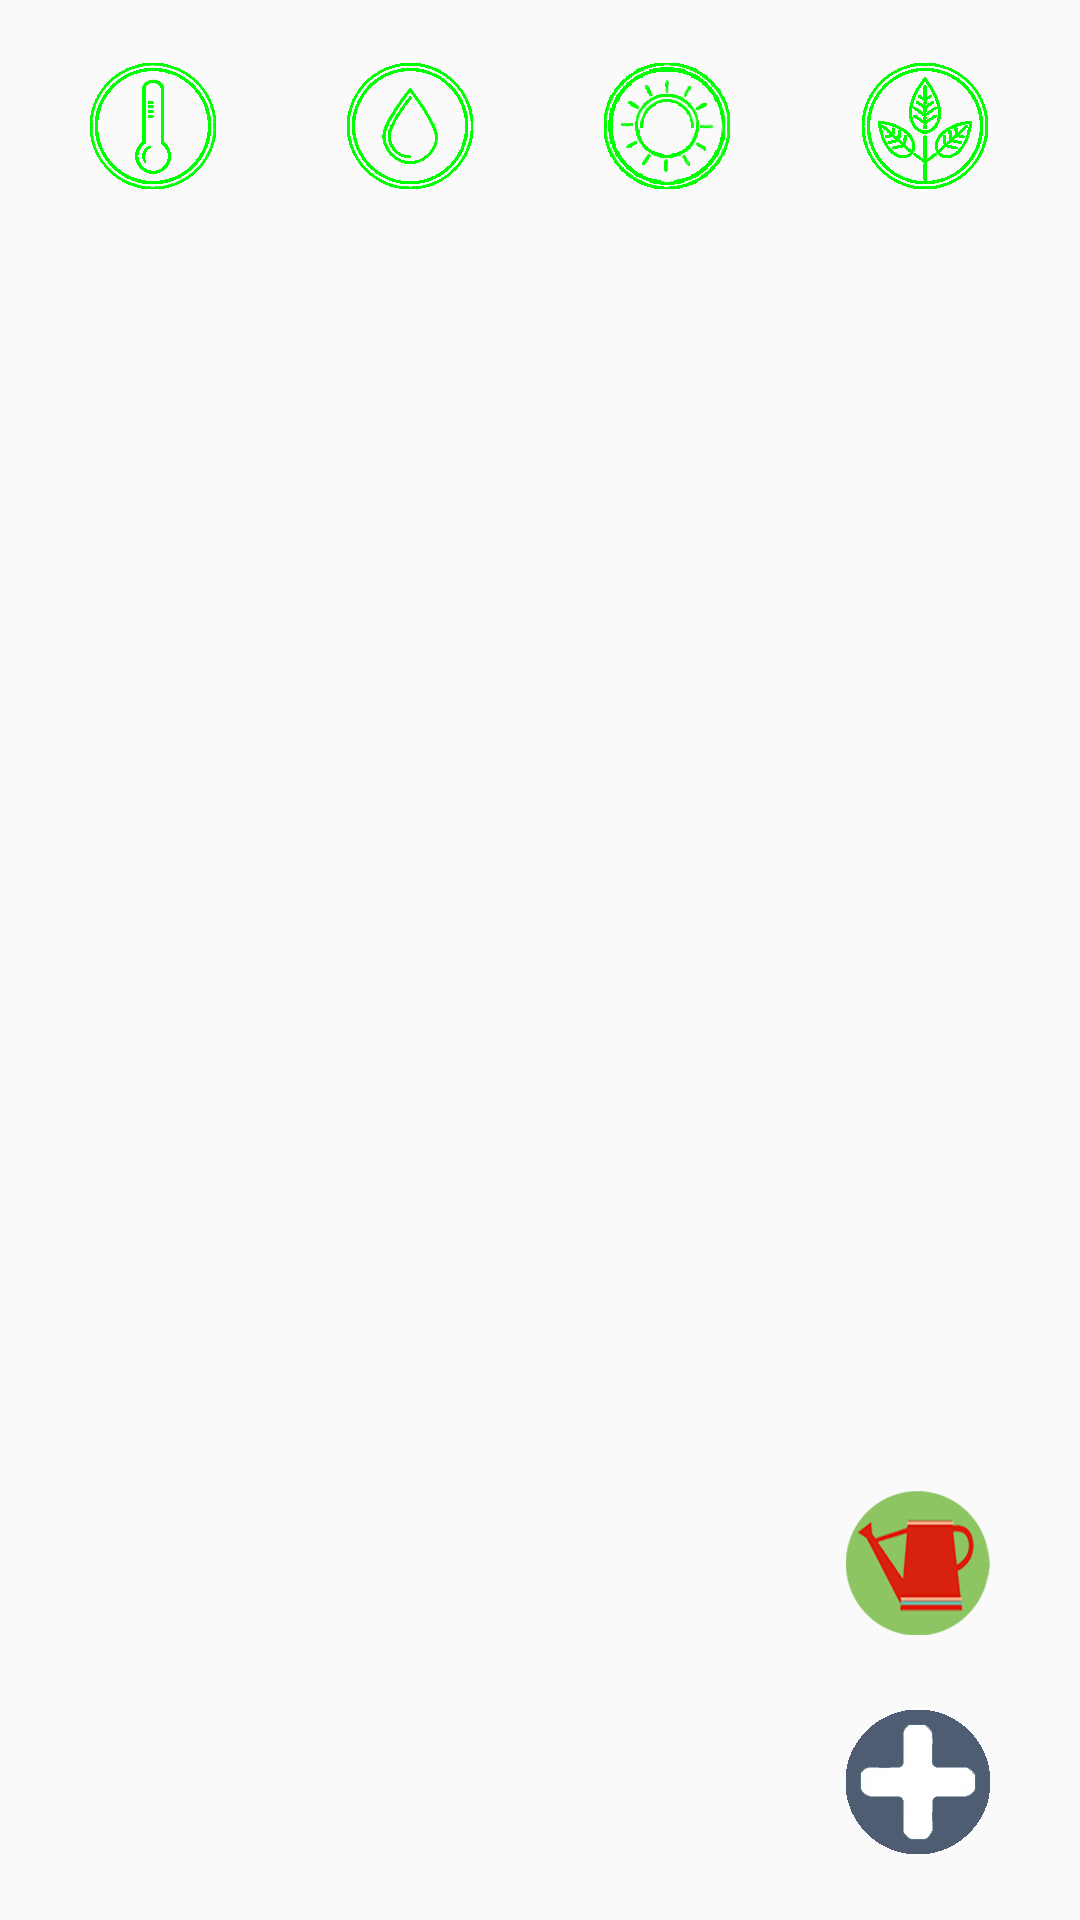

Named icons in this screenshot (1080*1920) and their bounding boxes, Rect(x1, y1, x2, y2):
humidity: Rect(347, 63, 473, 189)
plus: Rect(846, 1710, 990, 1854)
sunshine: Rect(604, 63, 730, 189)
temperature: Rect(90, 63, 216, 189)
watering: Rect(846, 1491, 990, 1635)
